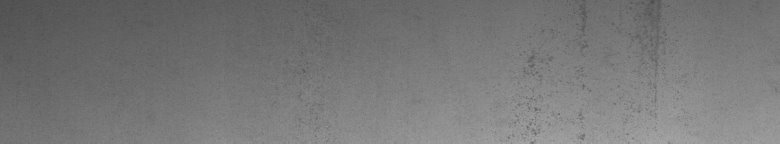ib: (520, 6, 658, 136)
